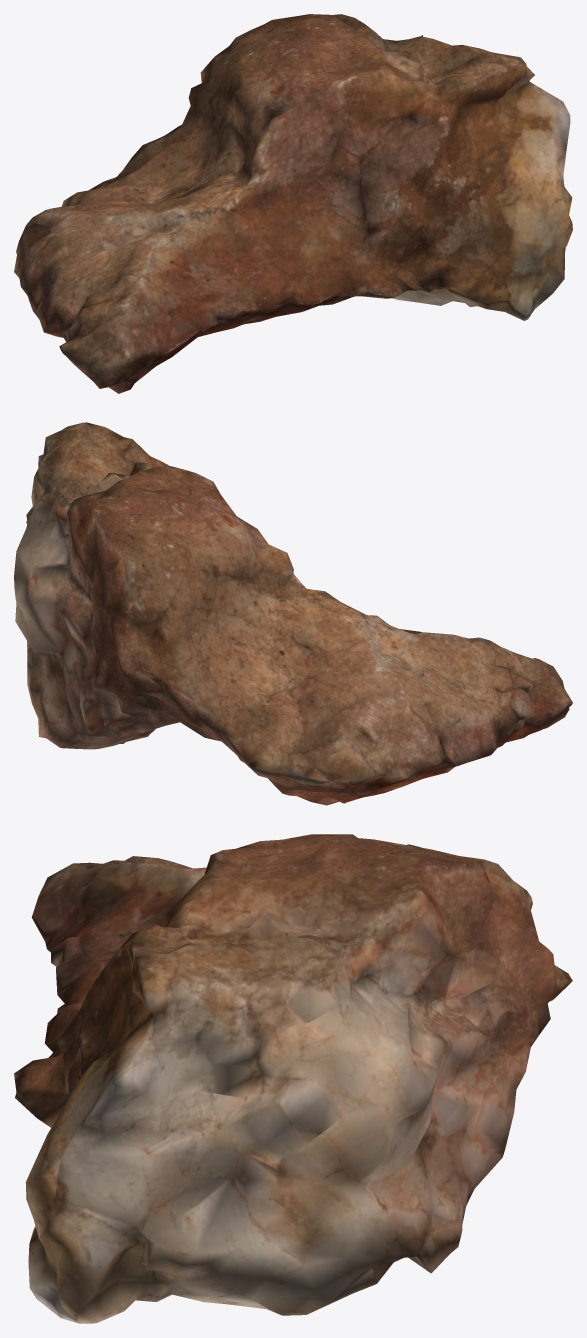
The model's file is stone_01.glb.
3 renders of one model, top to bottom at view 1: azimuth 30°, elevation 25°; view 2: azimuth 150°, elevation 25°; view 3: azimuth 270°, elevation 25°, orthographic. The views are drawn at different scales.
Visible parts, largest first — view 1: stone_01_lod0; view 2: stone_01_lod0; view 3: stone_01_lod0.
Part boxes in pixels (left/top/right/bottom): stone_01_lod0: left=14, top=14, right=572, bottom=393; stone_01_lod0: left=14, top=422, right=572, bottom=805; stone_01_lod0: left=14, top=834, right=572, bottom=1323.
Size of what is drawn, in the model's own units: 0.1464 by 0.0708 by 0.089.
1 material, 1 textured.
